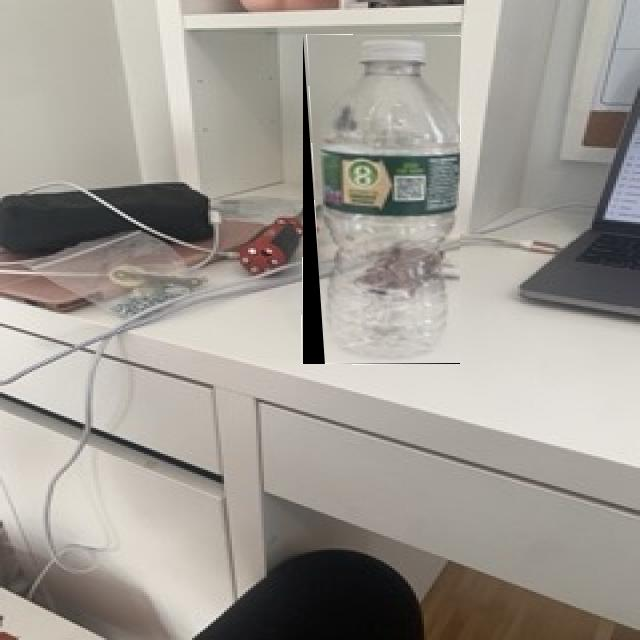water_bottle: (303, 35, 460, 364)
